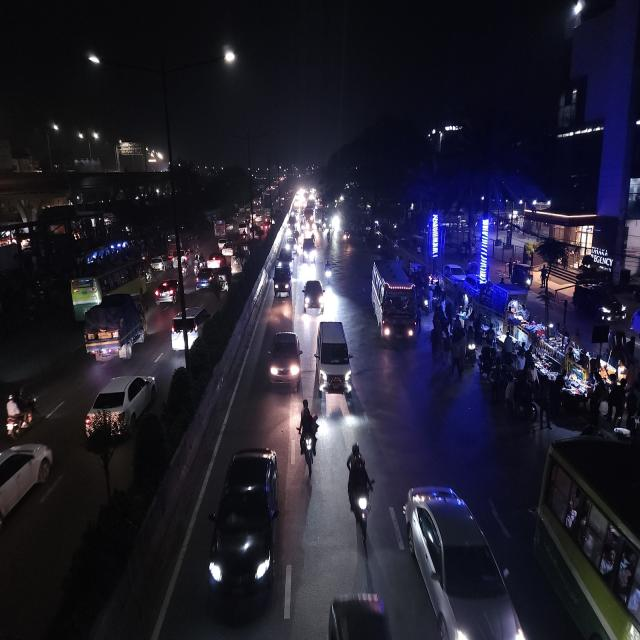bus: (535, 432, 640, 640), (368, 256, 422, 352), (70, 256, 148, 311)
car: (399, 480, 525, 640), (207, 442, 283, 625), (0, 439, 55, 547), (80, 290, 148, 363), (94, 368, 158, 422), (315, 316, 352, 407), (266, 320, 302, 396), (170, 302, 210, 357), (302, 275, 326, 315), (154, 277, 180, 306), (274, 247, 294, 270), (195, 267, 214, 291), (230, 254, 247, 279), (302, 238, 315, 266), (207, 252, 223, 270), (149, 255, 165, 272), (222, 240, 234, 257), (286, 237, 297, 252)
motorcycle: (345, 440, 375, 550), (2, 388, 40, 440), (296, 395, 320, 477), (323, 258, 334, 286)
pedestrian: (448, 314, 466, 378), (428, 324, 442, 360)
pickup_van: (80, 291, 140, 365), (272, 266, 292, 298)
